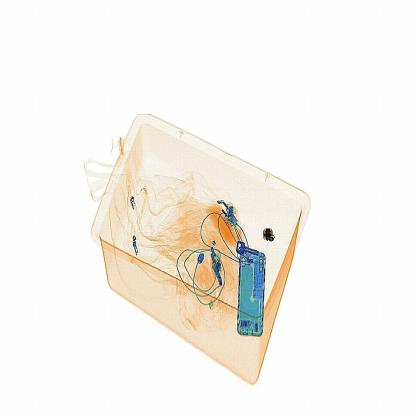scissors: (261, 227, 277, 246)
